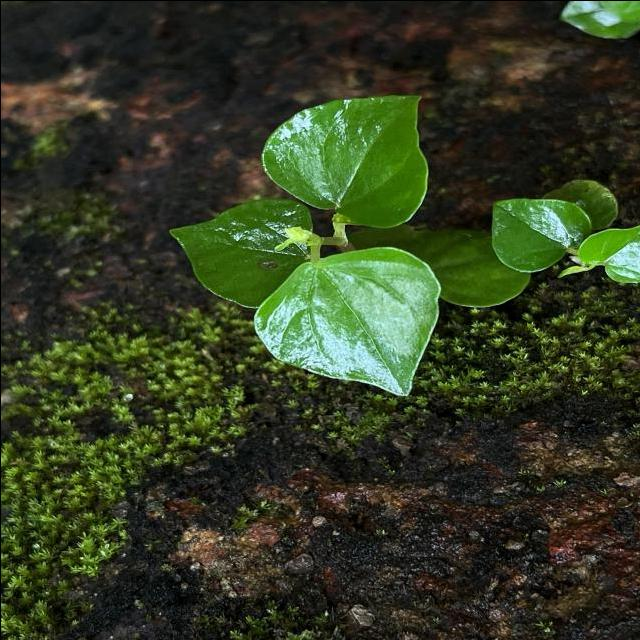Peperomia pellucida: (250, 242, 442, 398), (258, 93, 430, 230)
